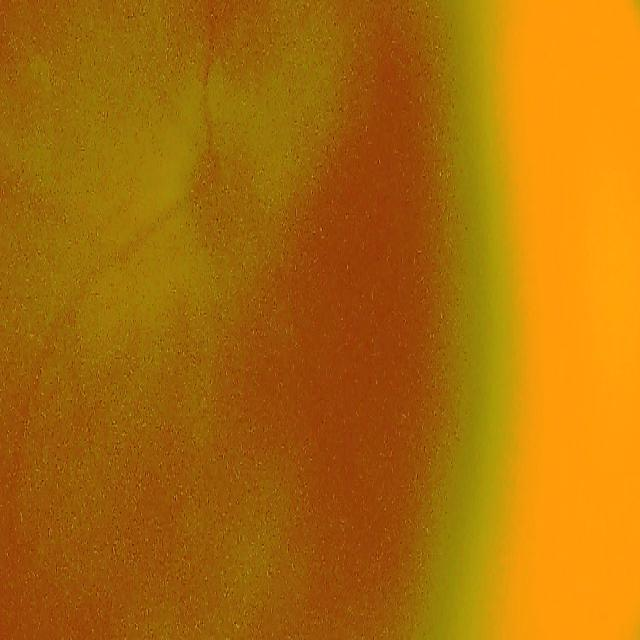optic-nerve: (176, 109, 262, 279)
